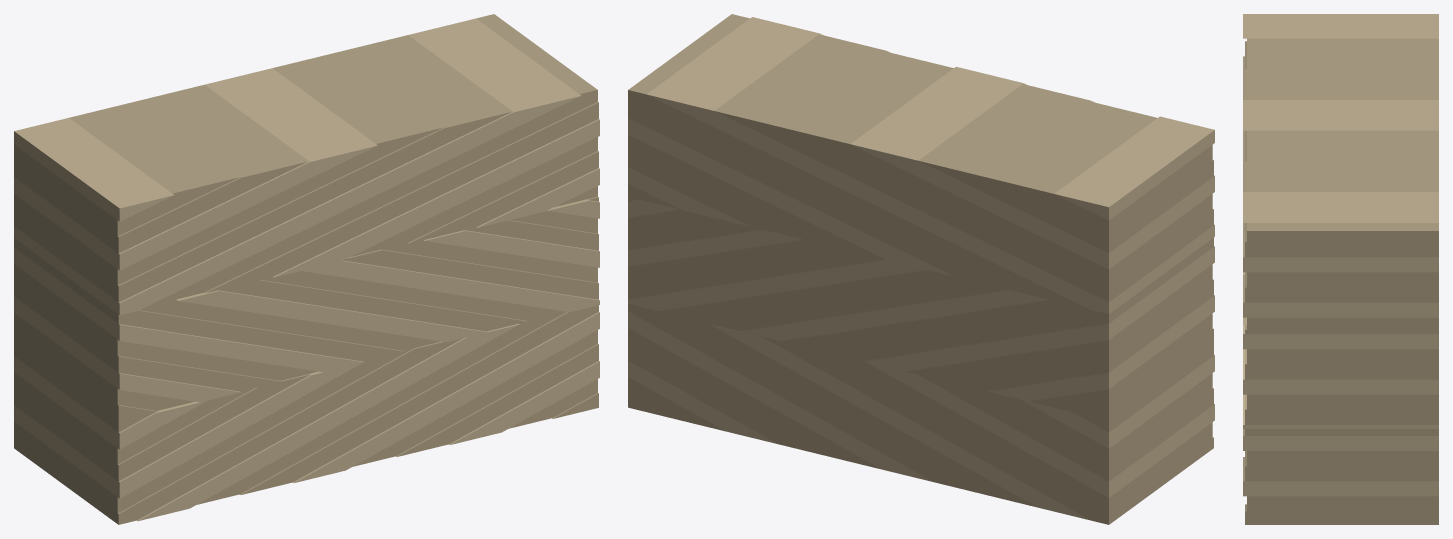
The model's file is cross-bedded-sandstone.glb.
The picture shows the model from 3 angles, left to right: view 1: azimuth 30°, elevation 25°; view 2: azimuth 150°, elevation 25°; view 3: azimuth 270°, elevation 25°; orthographic projection. The views are drawn at different scales.
Visible parts, largest first — view 1: three-crossbed-sets-with-physically-truncated-inclined-lamin; view 2: three-crossbed-sets-with-physically-truncated-inclined-lamin; view 3: three-crossbed-sets-with-physically-truncated-inclined-lamin.
Part boxes in pixels (x1,y1,x2,y2): three-crossbed-sets-with-physically-truncated-inclined-lamin: [14, 14, 599, 524]; three-crossbed-sets-with-physically-truncated-inclined-lamin: [628, 14, 1214, 524]; three-crossbed-sets-with-physically-truncated-inclined-lamin: [1243, 14, 1438, 524].
Size of the model in its own units: 0.8 by 0.505 by 0.305.
